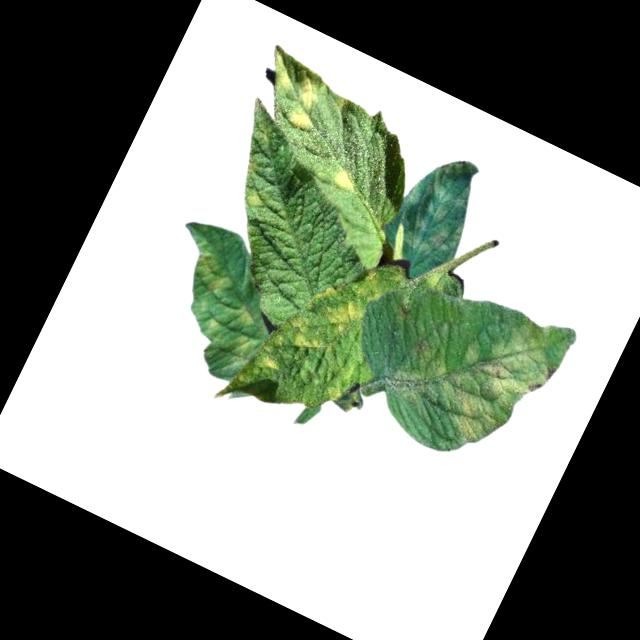Leaf_Mold: (380, 271, 570, 463), (155, 242, 286, 377), (381, 139, 499, 267), (248, 45, 339, 134), (302, 278, 370, 341), (279, 311, 336, 359), (326, 164, 364, 200), (239, 183, 274, 220), (253, 348, 287, 378)
